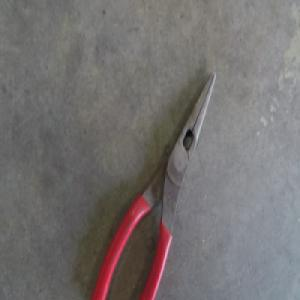Pliers: (90, 74, 216, 299)
